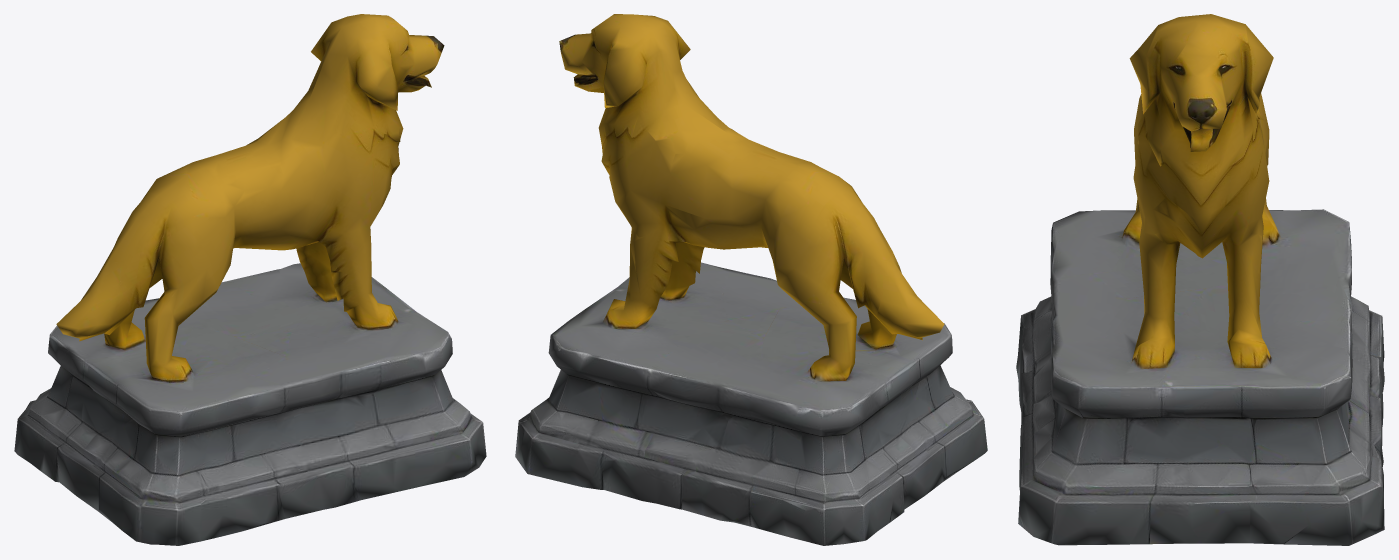
Rendered from dog-statue.glb.
3 views of the same model, side by side, from view 1: azimuth 30°, elevation 25°; view 2: azimuth 150°, elevation 25°; view 3: azimuth 270°, elevation 25° (orthographic). The views are drawn at different scales.
Parts seen in each view (by area): view 1: tripo_node_fa18fd79-1ec0-452d-8ad3-603f89002aba; view 2: tripo_node_fa18fd79-1ec0-452d-8ad3-603f89002aba; view 3: tripo_node_fa18fd79-1ec0-452d-8ad3-603f89002aba.
Boxes of the visible parts, <box> form: tripo_node_fa18fd79-1ec0-452d-8ad3-603f89002aba: <box>14,14,486,545</box>; tripo_node_fa18fd79-1ec0-452d-8ad3-603f89002aba: <box>515,14,987,545</box>; tripo_node_fa18fd79-1ec0-452d-8ad3-603f89002aba: <box>1016,14,1384,545</box>.
Bounding box in the file's own units: 0.9836 × 1 × 0.6761.
Materials: 1 (1 with a texture image).
